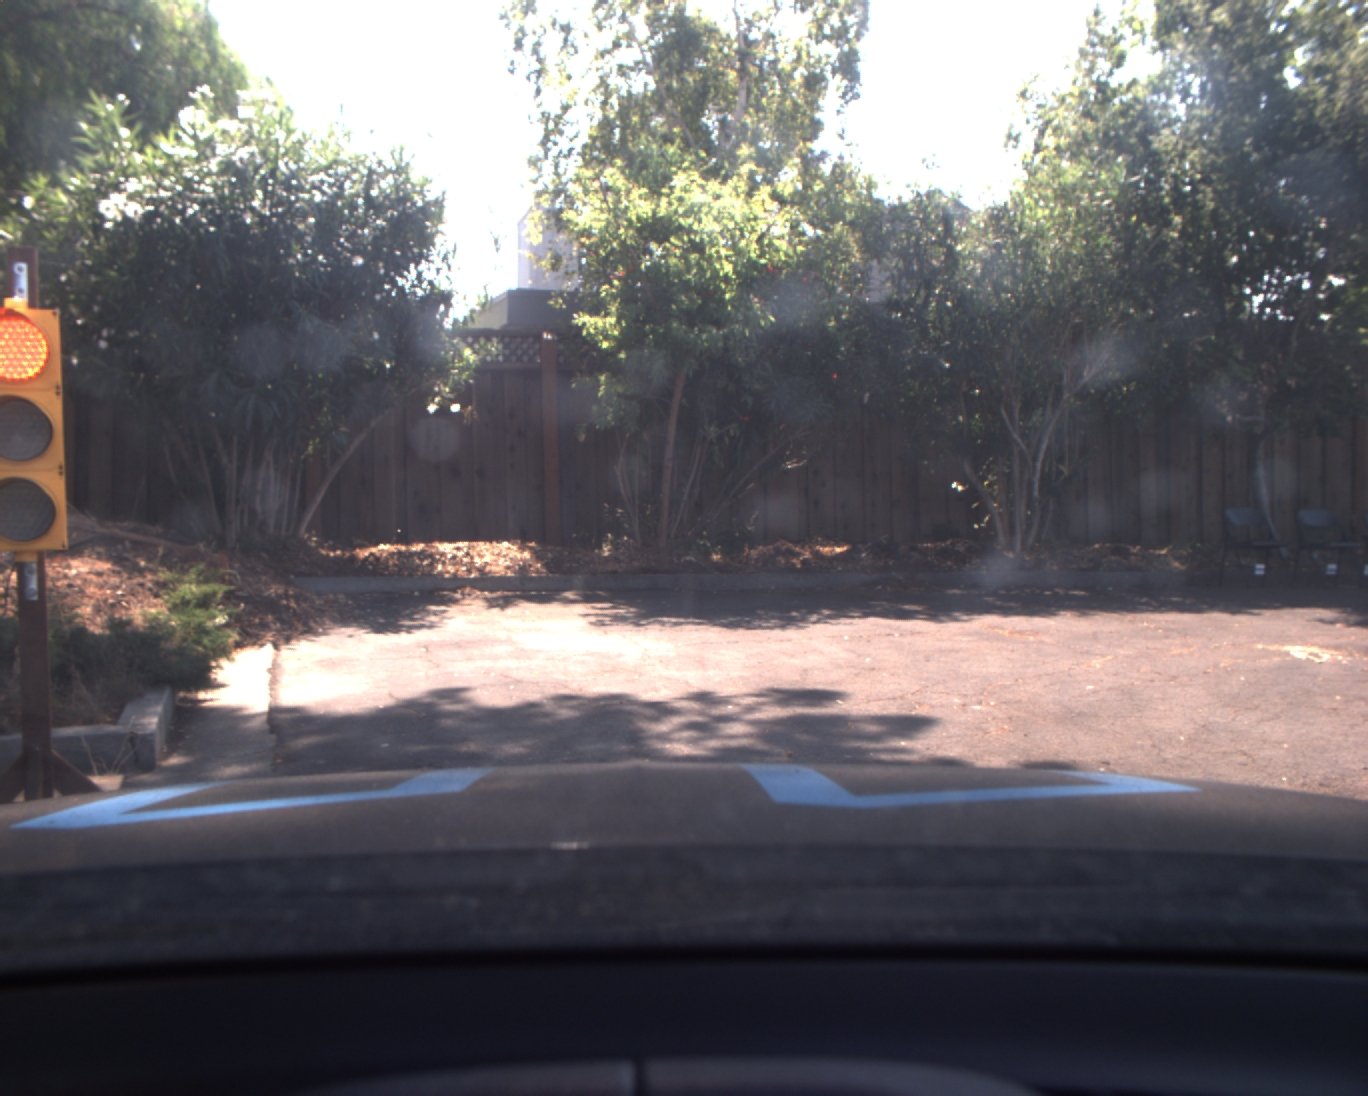red: (3, 309, 69, 554)
